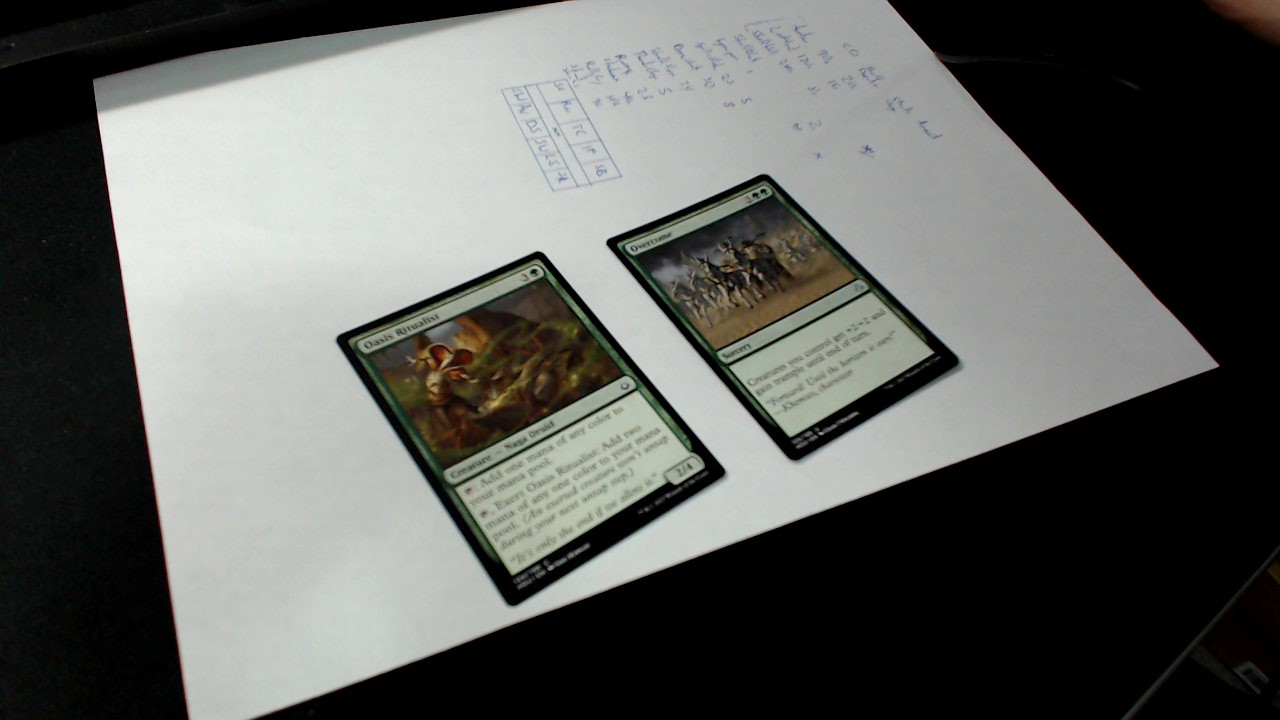MTG Card: (334, 246, 728, 612), (602, 167, 964, 464)
